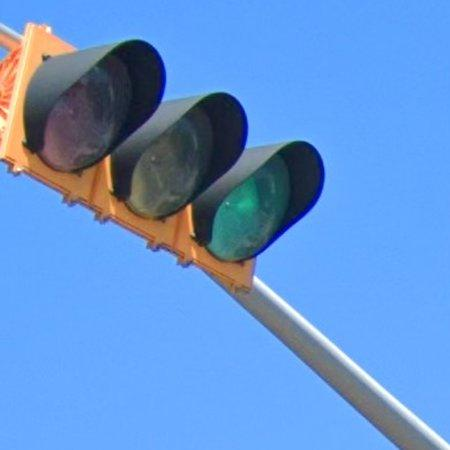traffic lights: (0, 23, 325, 292)
